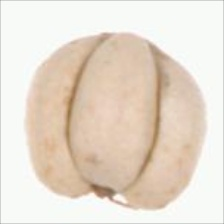L5: (63, 31, 164, 193), (45, 178, 157, 213)
L6: (23, 32, 209, 214)
